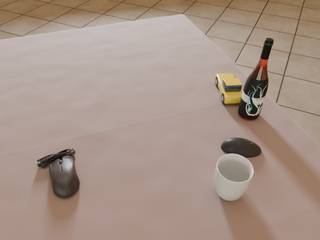bottle: (238, 38, 274, 120)
cup: (214, 154, 254, 201)
mouse: (36, 149, 80, 198), (221, 138, 261, 158)
toy_car: (215, 74, 242, 104)
